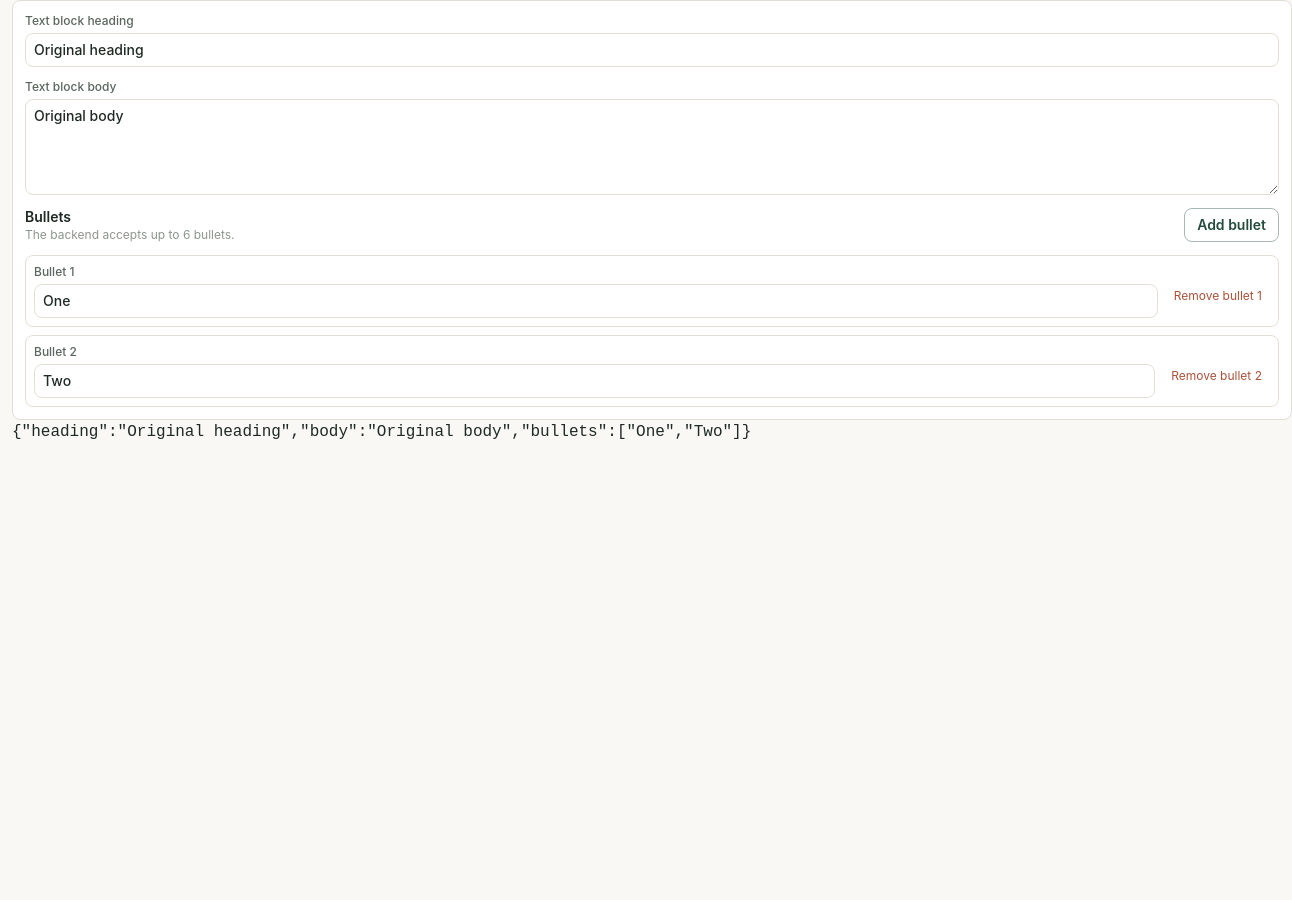
Test: TextBlockSectionEditor › edits a brand story text block and caps bullets at six
Replace the text in the field labelled "Text block heading" with "Made for real life": (652, 50) [25,33,1279,67]
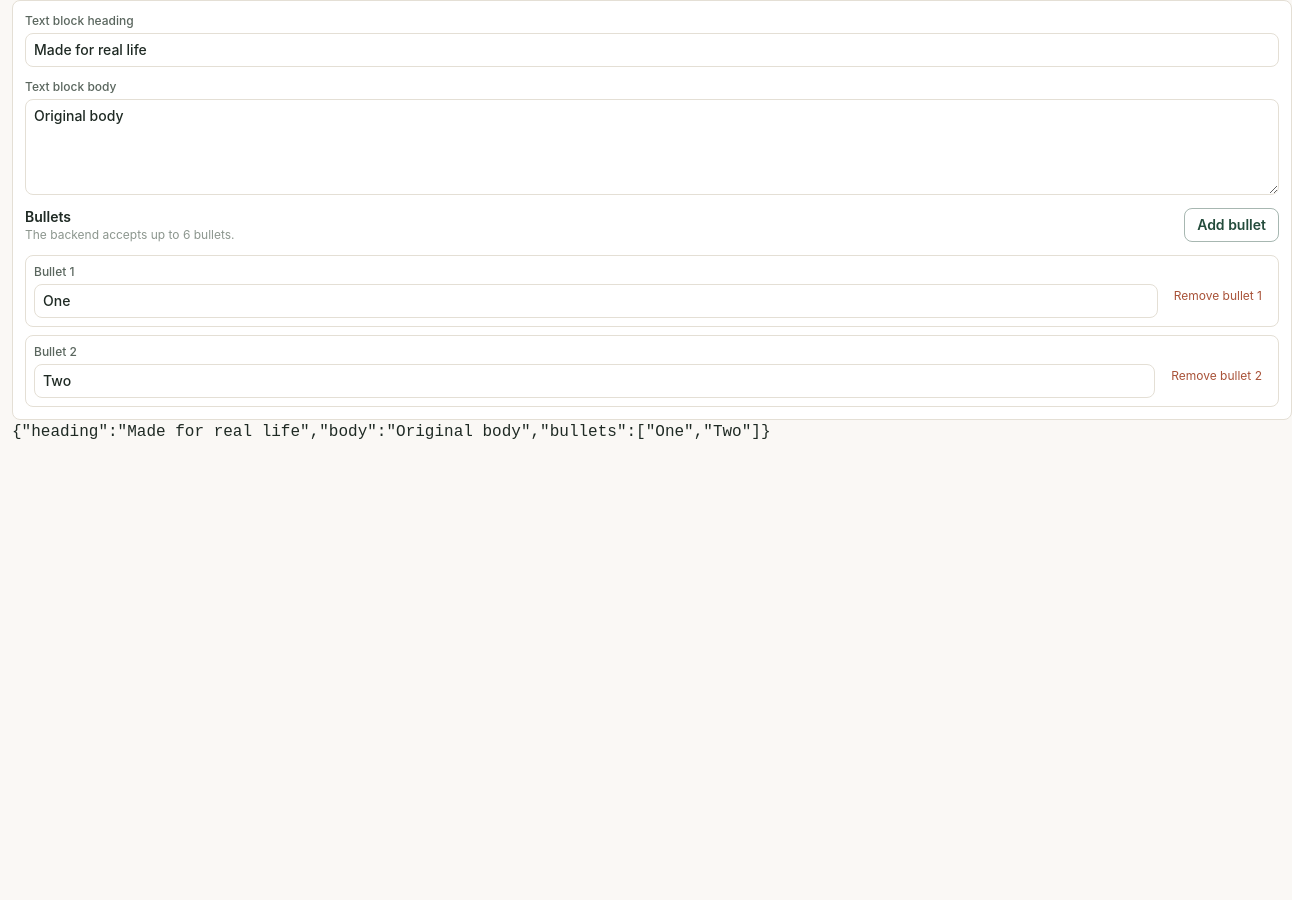
Click the button "Add bullet": (1232, 225) [1184,208,1279,242]
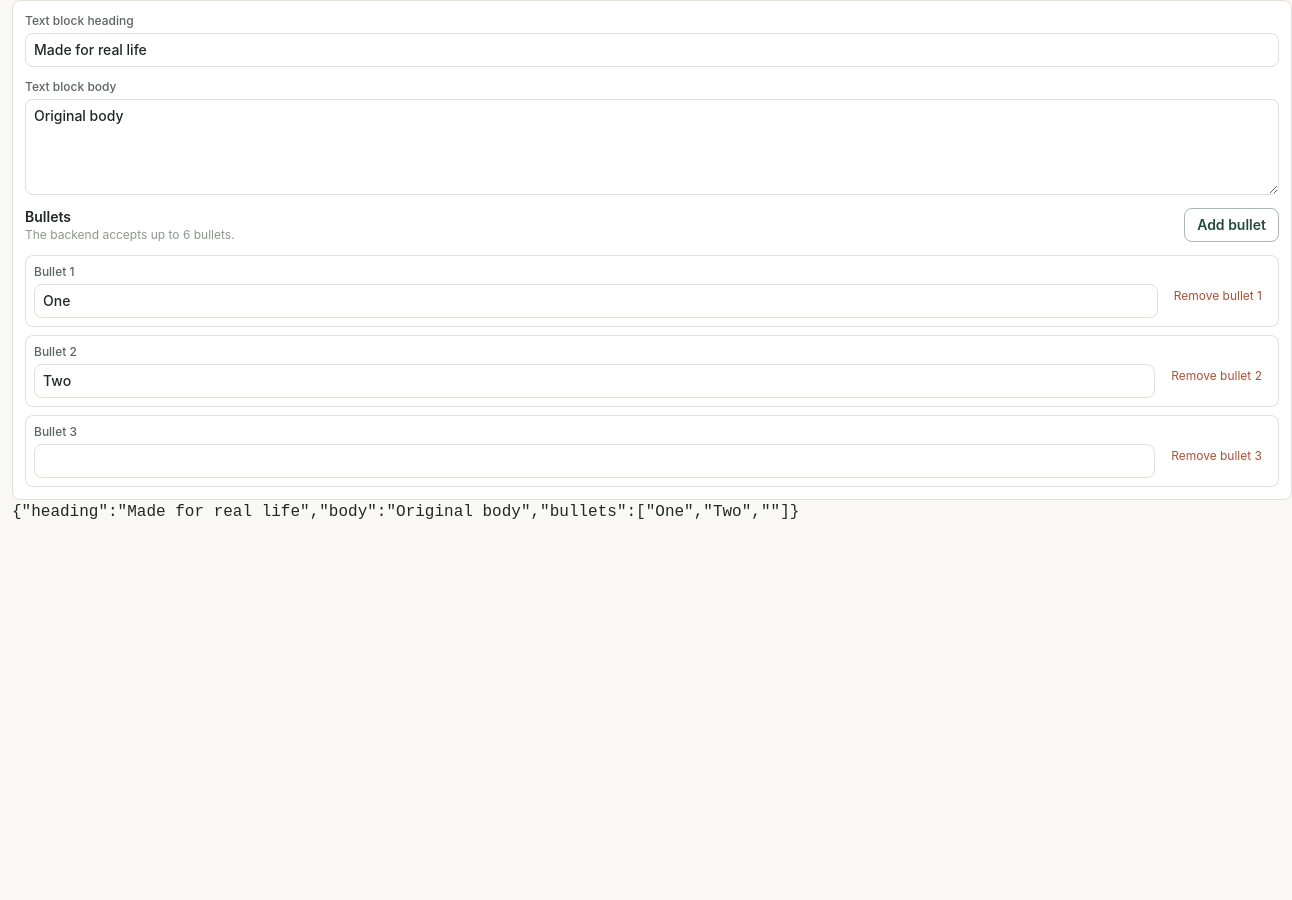
Click the button "Add bullet": (1232, 225) [1184,208,1279,242]
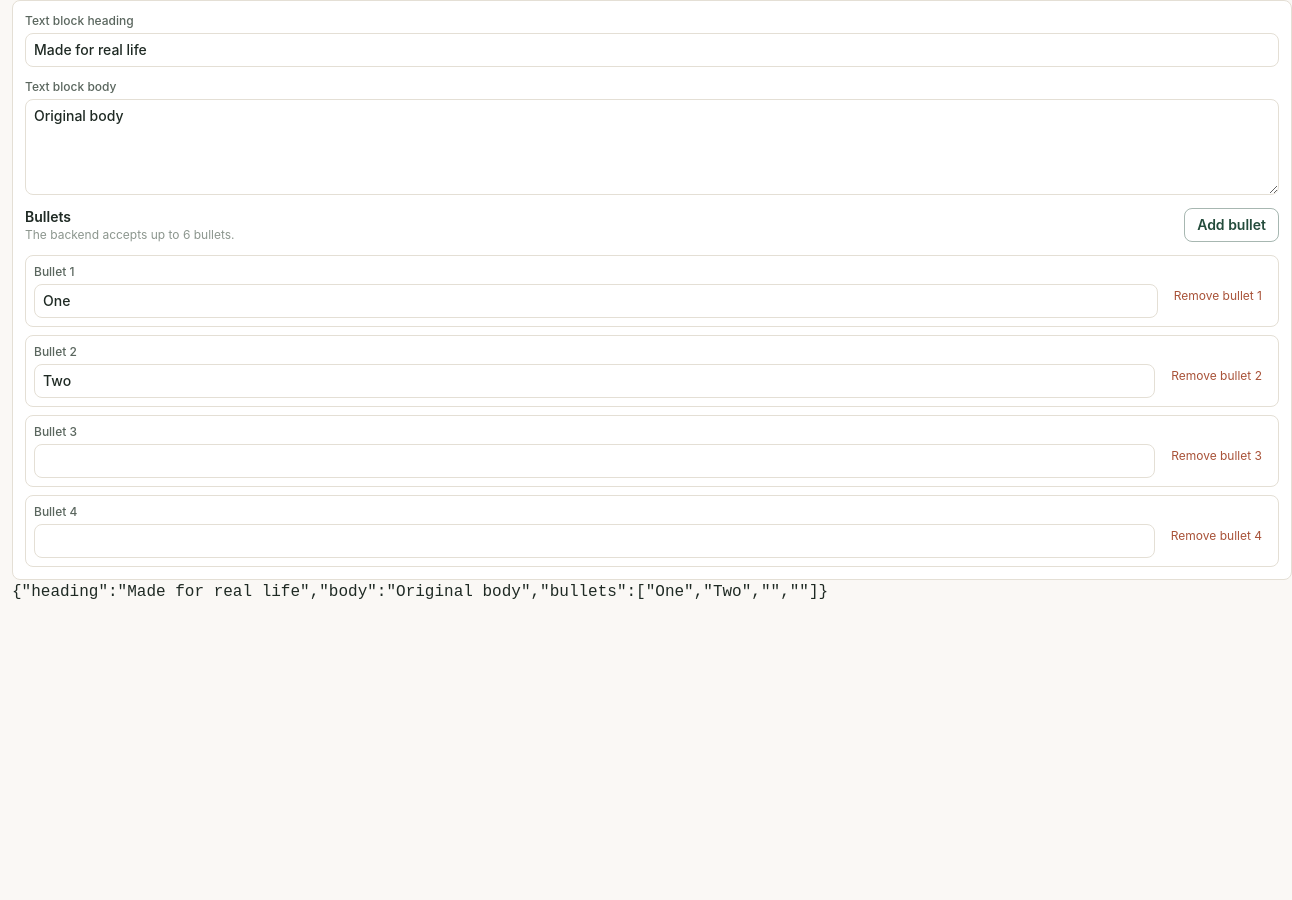
Click the button "Add bullet": (1232, 225) [1184,208,1279,242]
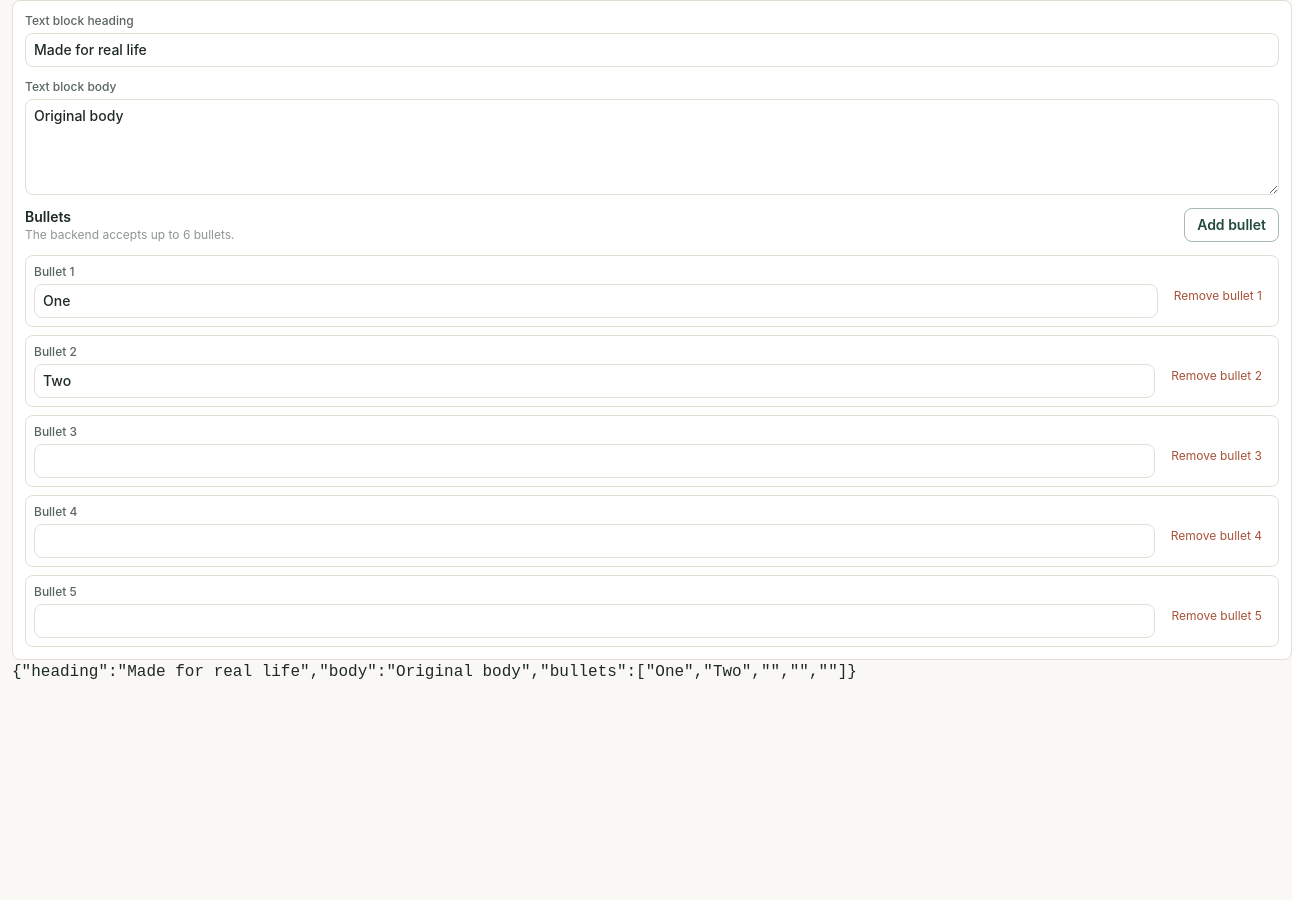
Click the button "Add bullet": (1232, 225) [1184,208,1279,242]
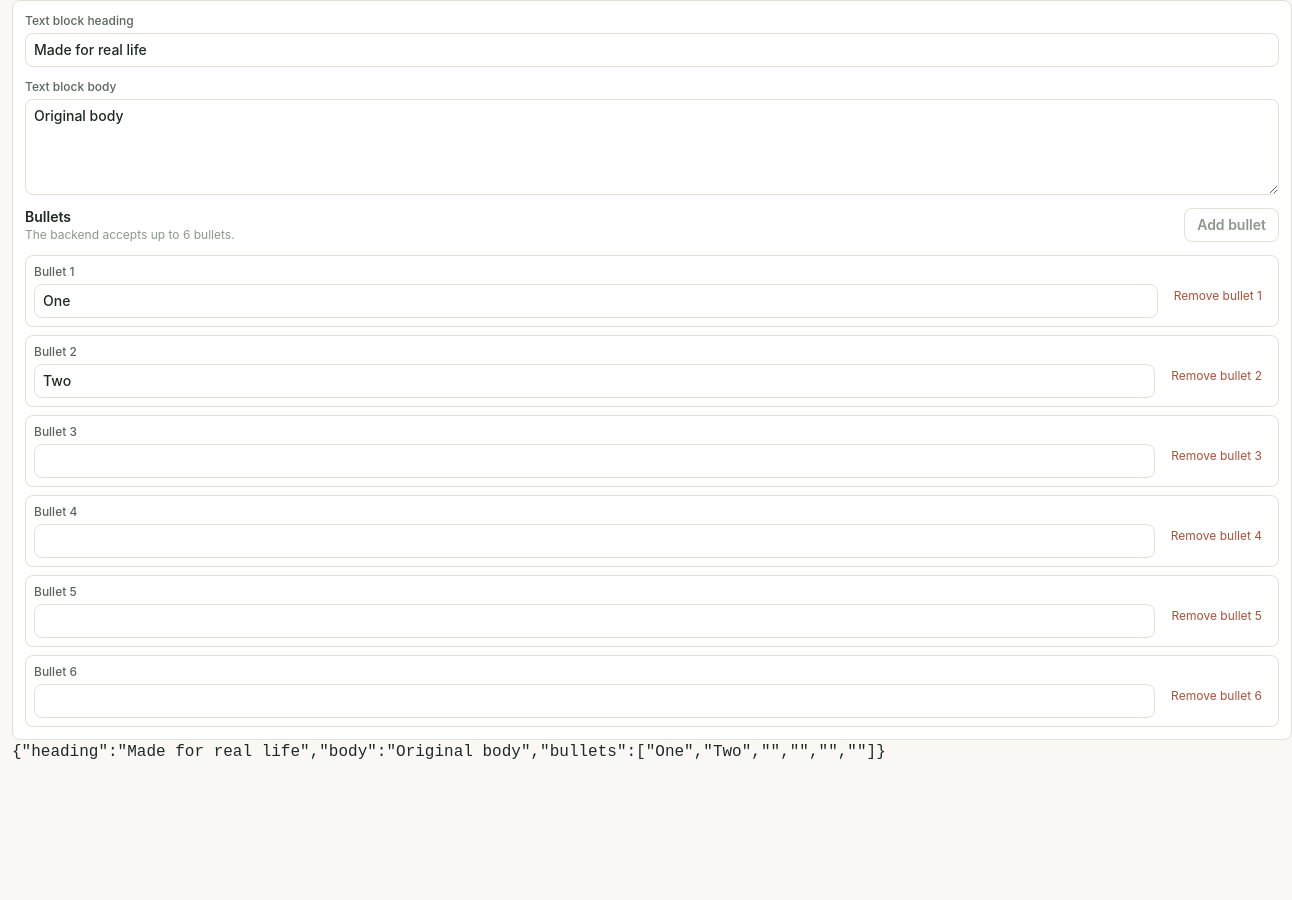
Expected: the text "The backend accepts up to 6 bullets." is shown, [25,227,235,243]
Now the button "Add bullet" is disabled, box [1184,208,1279,242]
